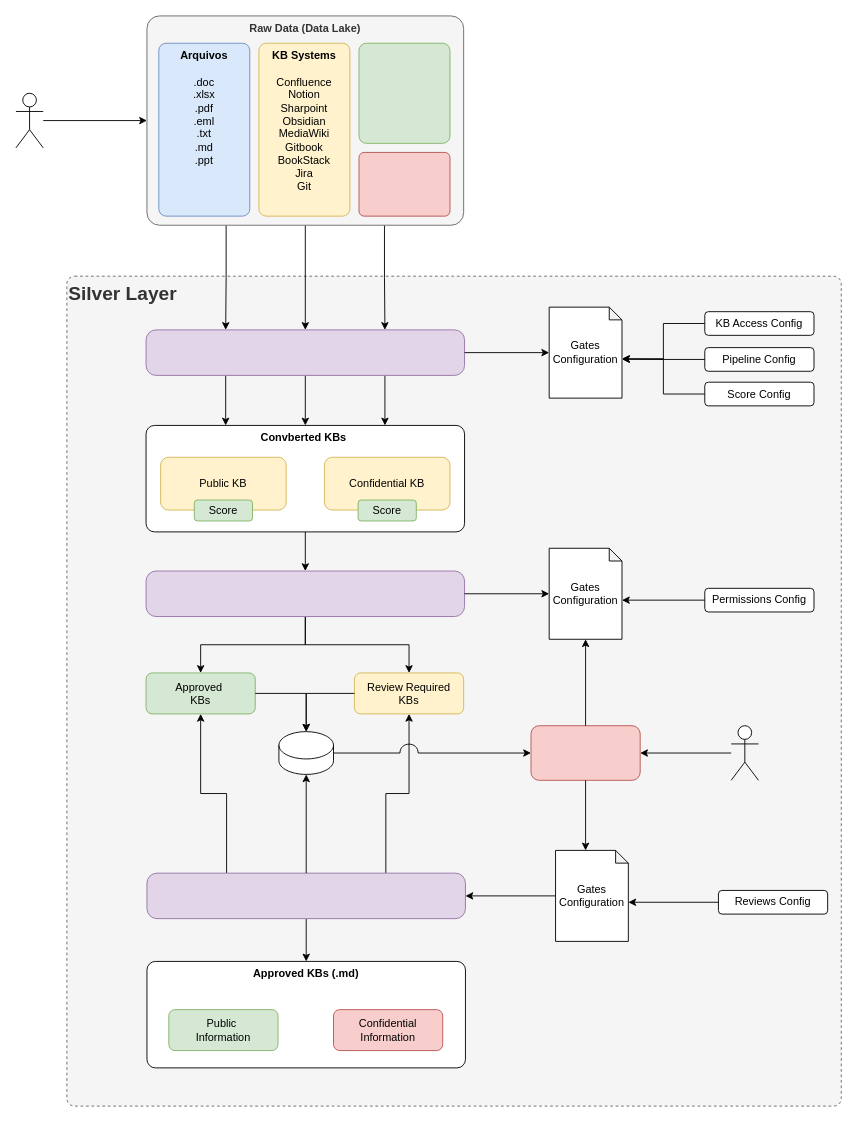
Image size: 857x1122. Some labels were removed from this diagram. Each missing label, with the centre of its shape:
"Approvers" goes at [744,752].
"Approving Gate" goes at [305,593].
"Conversion / Score Gate" goes at [305,352].
"KB Review Web Platform" goes at [585,752].
"Other BI Datalake" goes at [404,184].
"Review Gate" goes at [305,895].
"Transational ERPs CRMs APIs Databases" goes at [404,92].
"Users" goes at [29,120].
